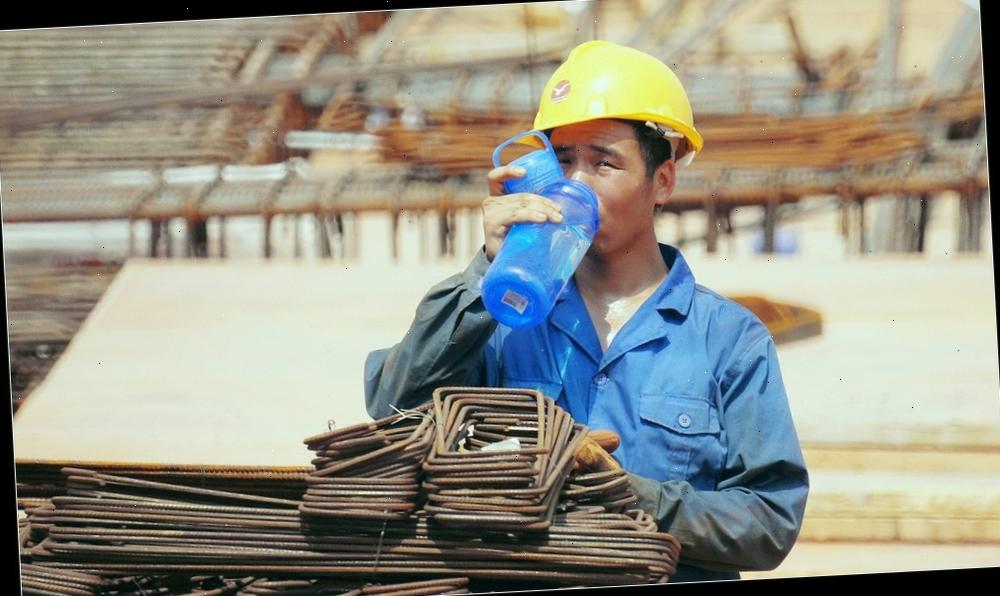helmet: (528, 32, 722, 155)
wear: (385, 246, 793, 522)
